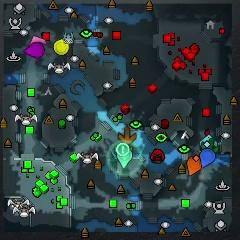p1: (200, 148, 216, 168)
p2: (116, 147, 133, 169)
p3: (24, 42, 45, 58)
p4: (54, 38, 70, 56)
p5: (185, 156, 204, 175)
x1: (31, 34, 47, 46)
x3: (199, 135, 213, 146)
x4: (201, 138, 219, 152)
x5: (118, 125, 137, 146)
